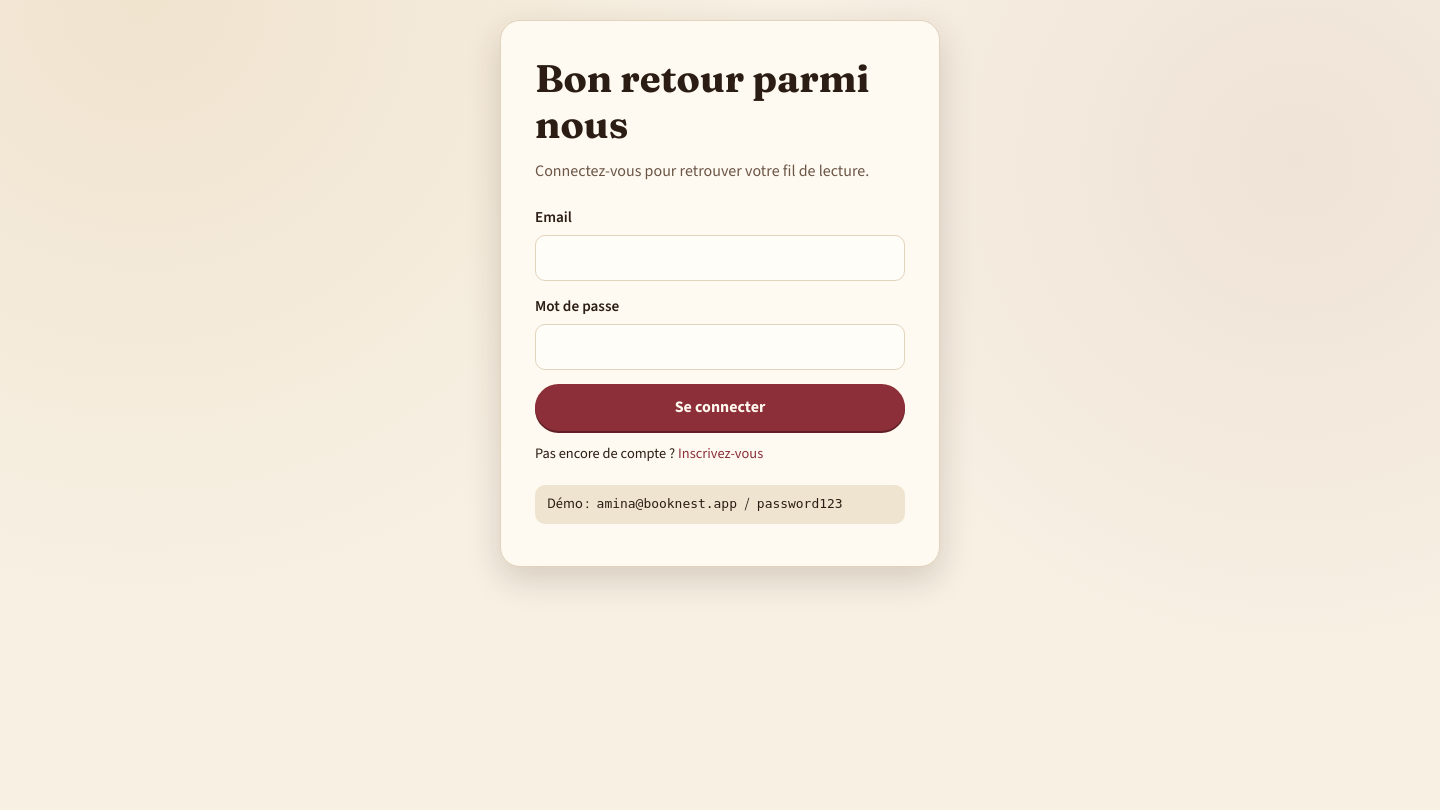
LoginPage › affiche l'erreur renvoyée par l'API
The width and height of the screenshot is (1440, 810).
Type "a@b.fr" into the field labelled "Email" at [720, 258], box [535,235,905,281]
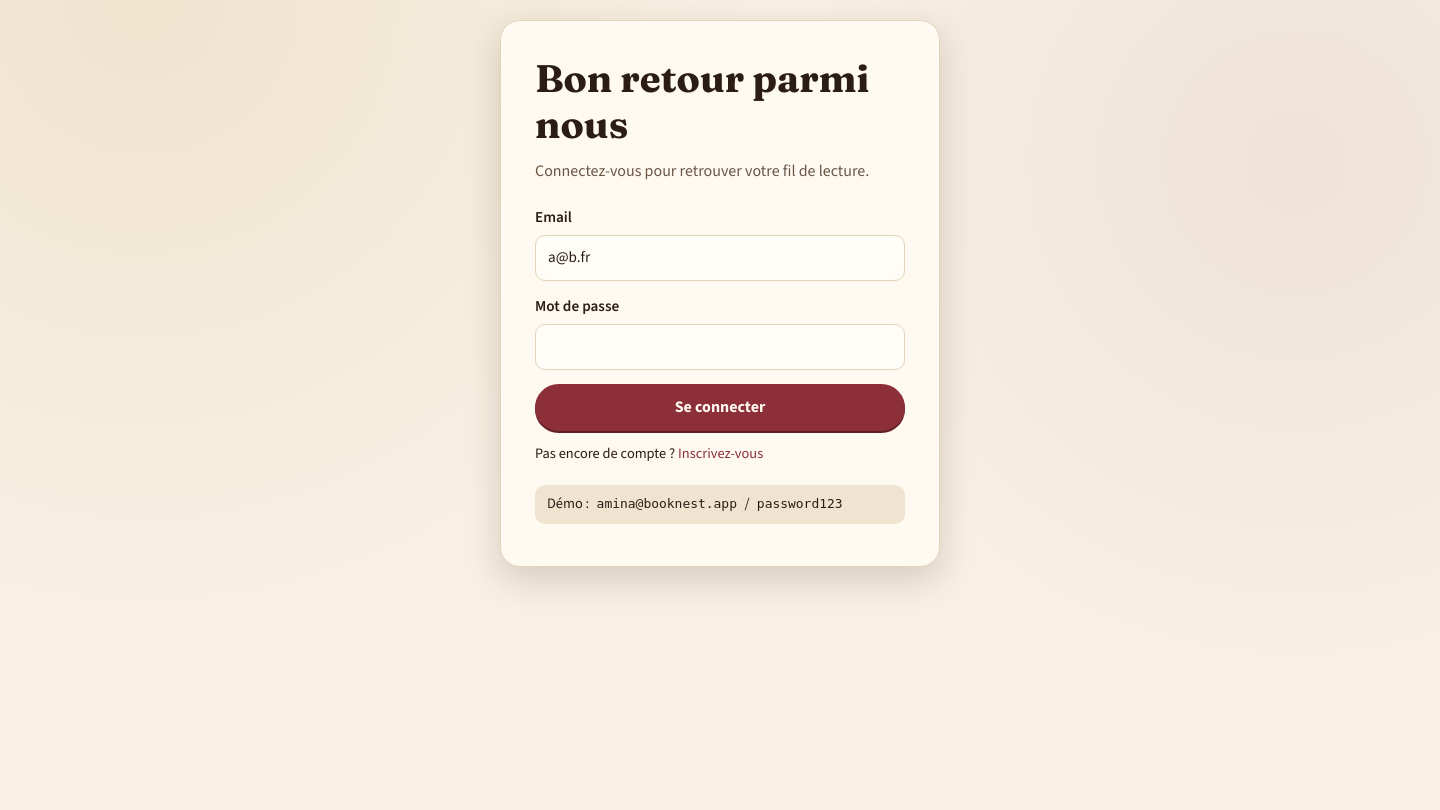
Type "mauvais" into the password field labelled "Mot de passe" at [720, 347], box [535,324,905,370]
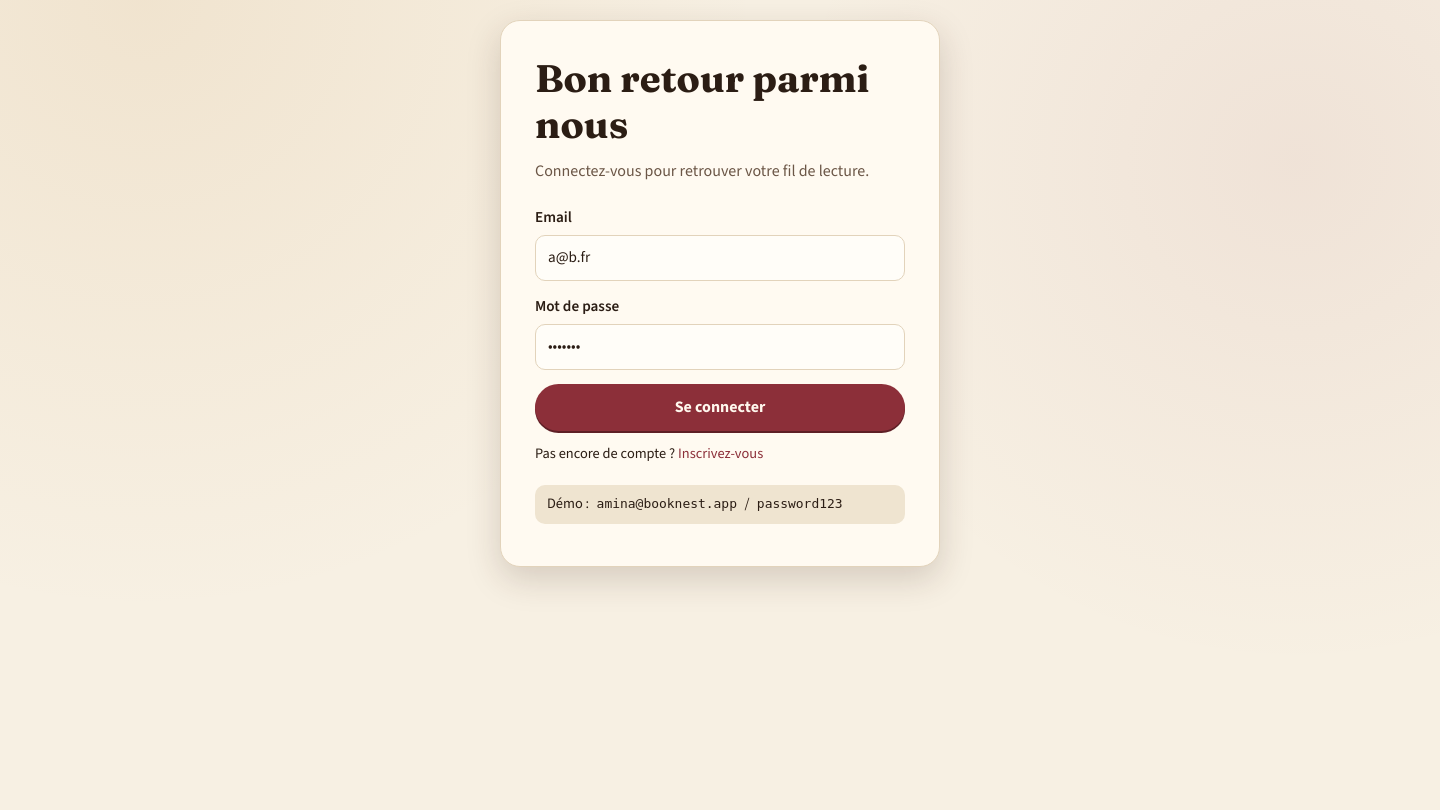
Click the button "Se connecter" at [720, 407], box [535,384,905,430]
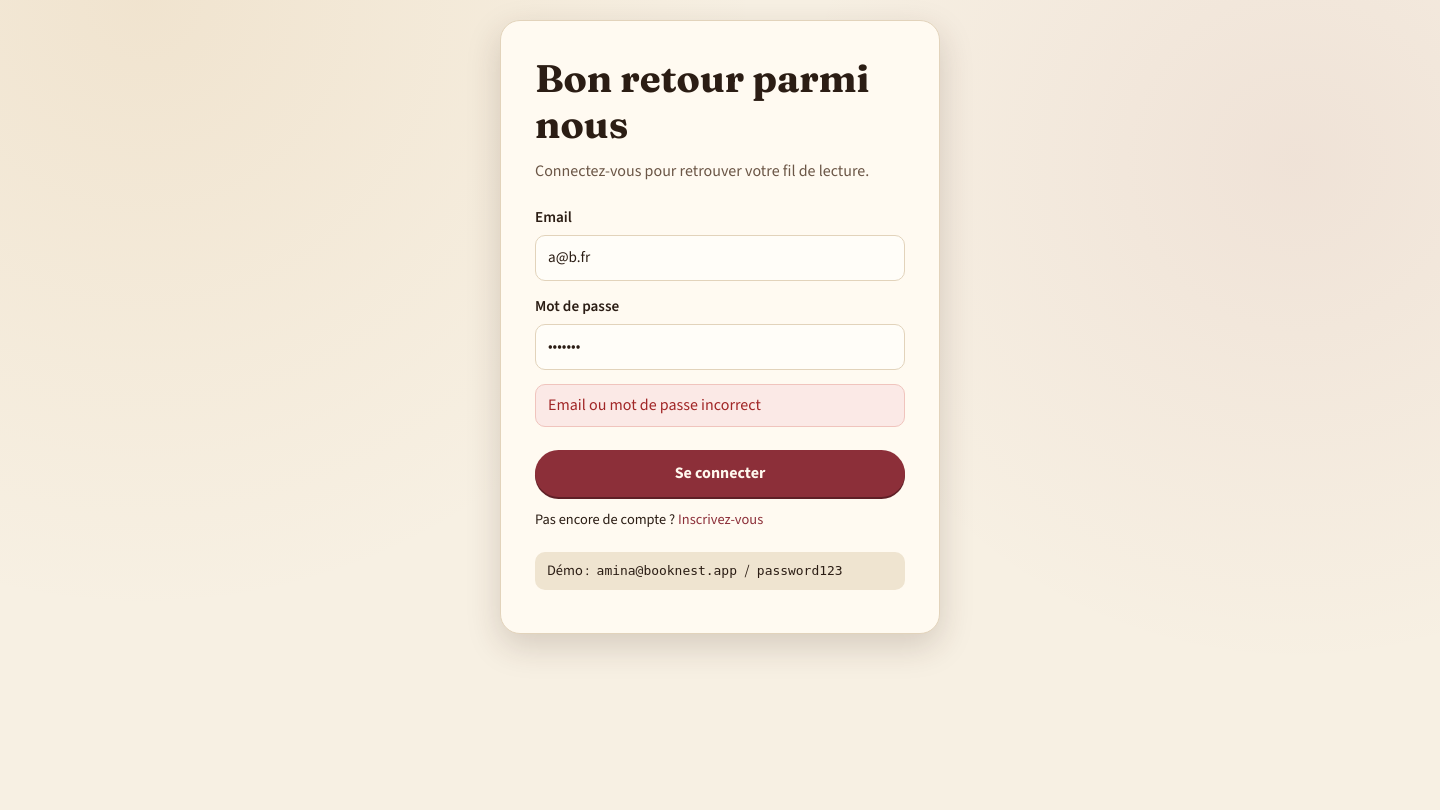
Now the message reads "Email ou mot de passe incorrect", box [548,394,761,415]
